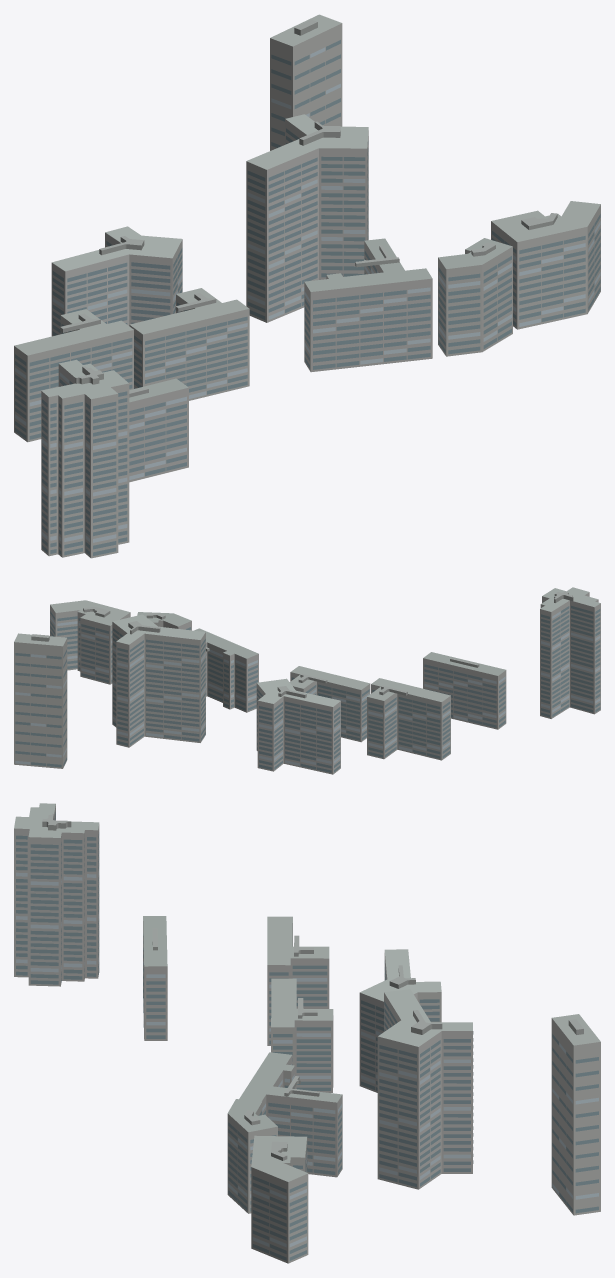
The model's file is apt-a10024938.glb.
3 renders of one model, top to bottom at view 1: azimuth 30°, elevation 25°; view 2: azimuth 150°, elevation 25°; view 3: azimuth 270°, elevation 25°, orthographic. The views are drawn at different scales.
Parts seen in each view (by area): view 1: apt-a10024938; view 2: apt-a10024938; view 3: apt-a10024938.
Part boxes in pixels (x1=…): apt-a10024938: x1=14, y1=14, x2=600, y2=558; apt-a10024938: x1=14, y1=587, x2=600, y2=774; apt-a10024938: x1=14, y1=803, x2=600, y2=1263.
Size of the model in its own units: 300 by 78.65 by 239.
